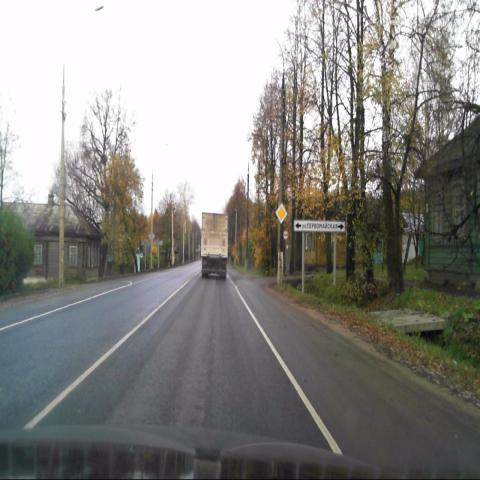2_1: (275, 203, 287, 224)
